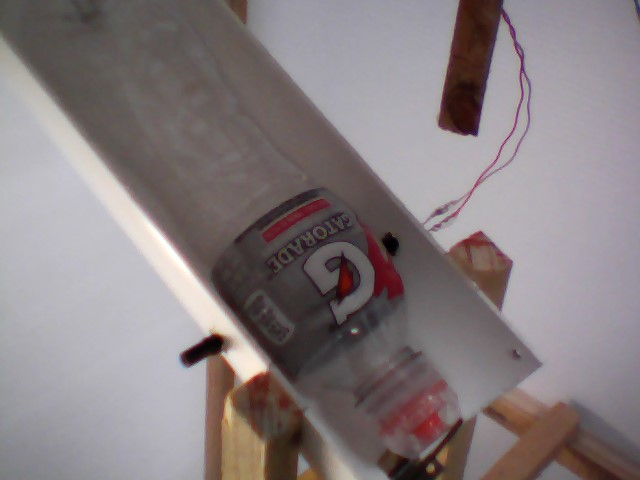plastico: (13, 1, 475, 467)
